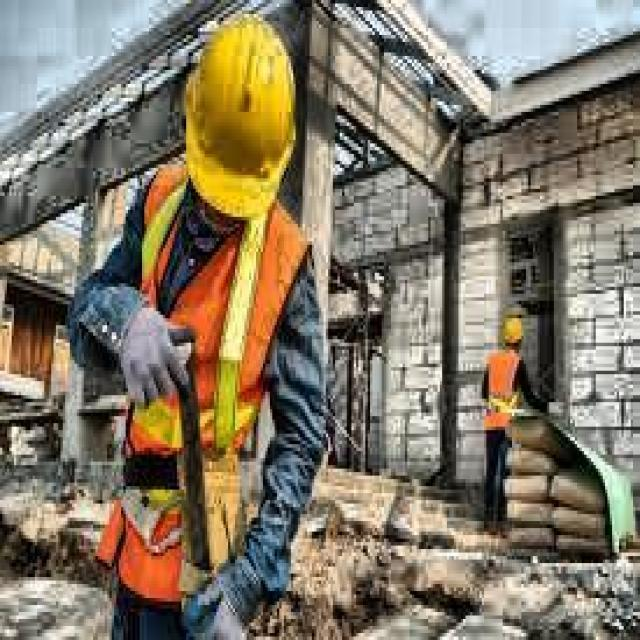belt: (120, 164, 272, 591), (484, 342, 519, 433)
